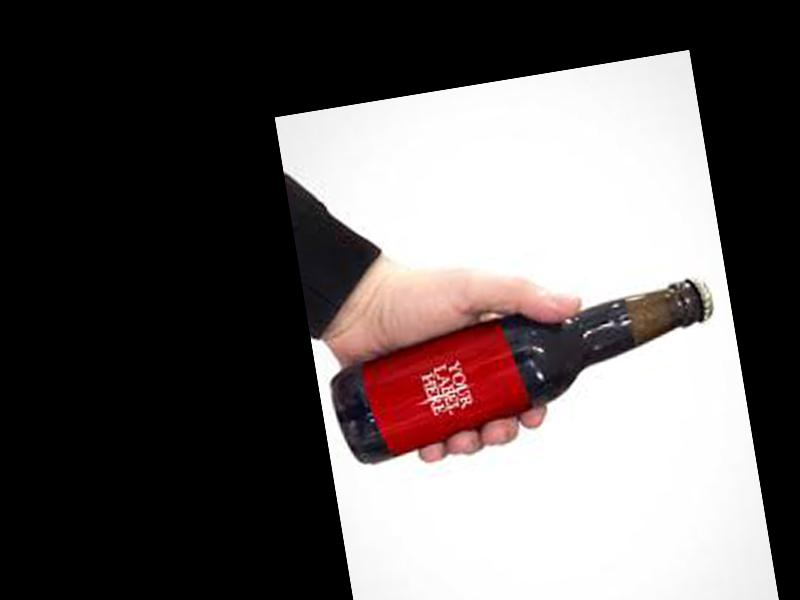Beer: (322, 272, 731, 470)
